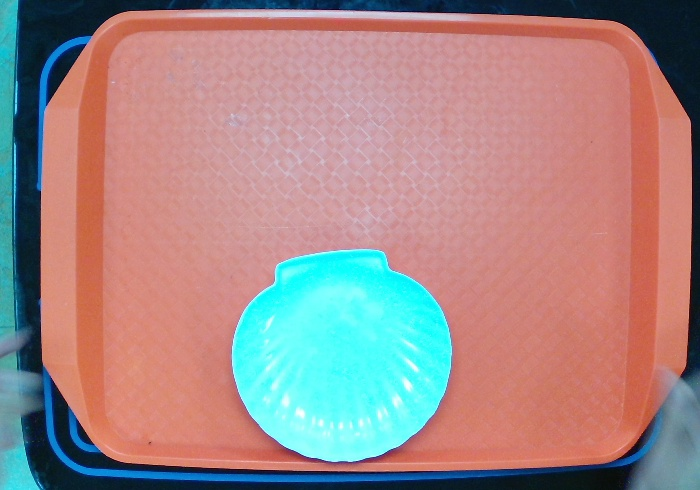RJxy-Bei_Ke_Wan: (225, 241, 459, 474)
